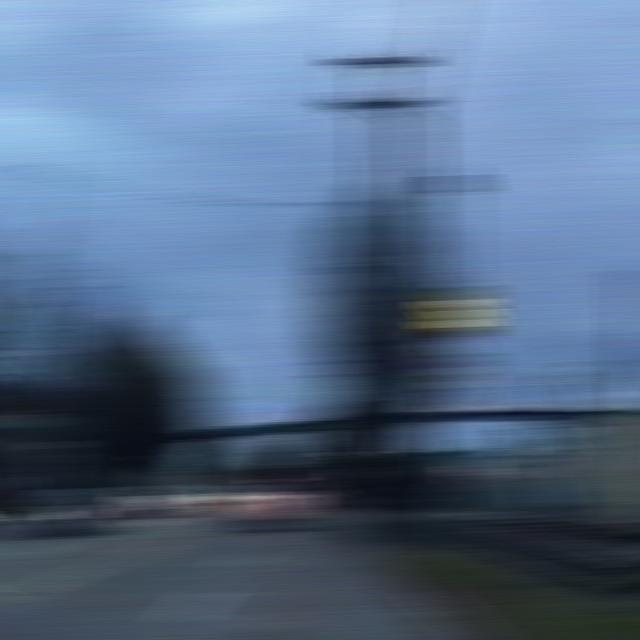speedLimit35: (428, 350, 485, 414)
